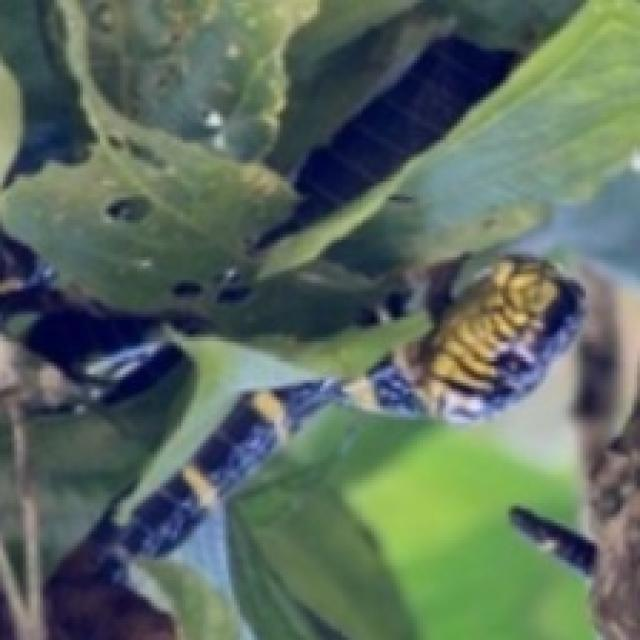mangrove cat snake: (46, 260, 580, 637), (241, 35, 516, 259), (0, 228, 208, 404), (216, 266, 251, 304)
